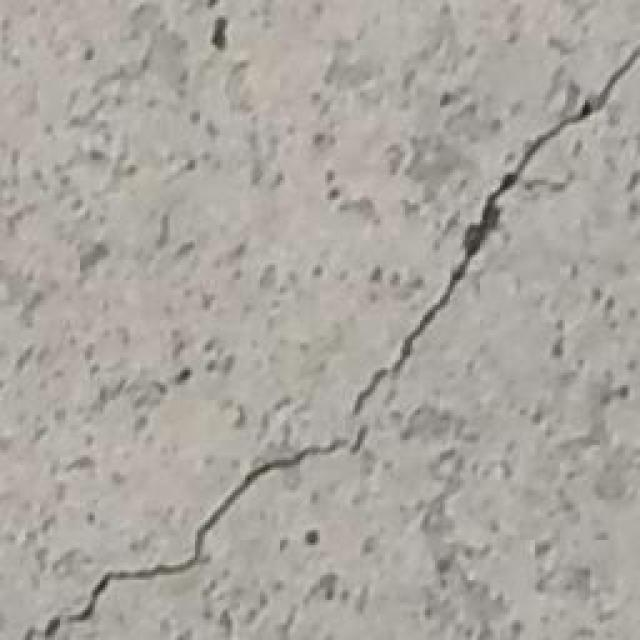concrete-crack: (350, 45, 640, 415), (20, 428, 368, 640)
